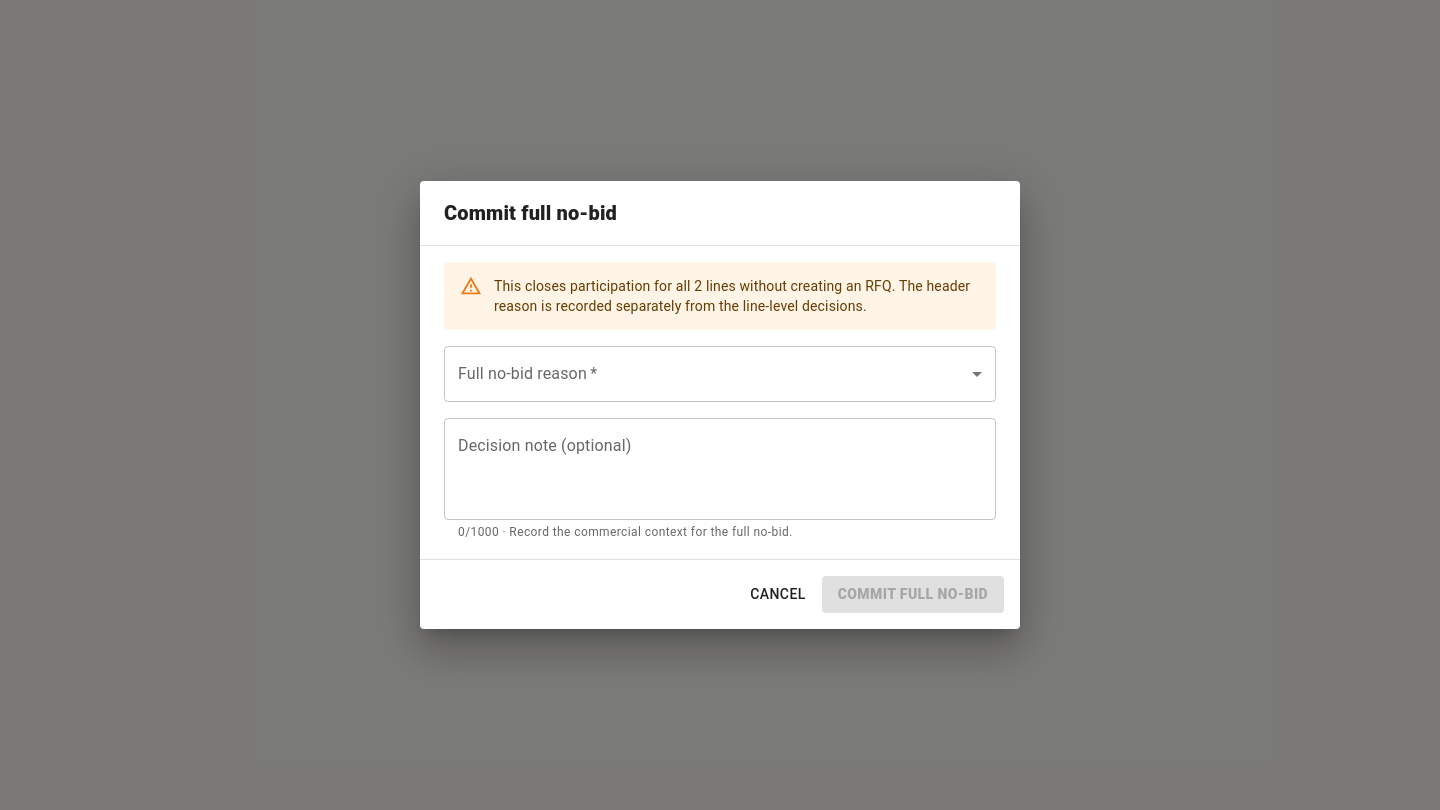
Test: FullNoBidCommitDialog › offers only reasons that describe turning the whole request down, never a line-skip-only reason
Press the mouse on the dropdown named "Full no-bid reason" at (720, 374), box [444,346,996,402]
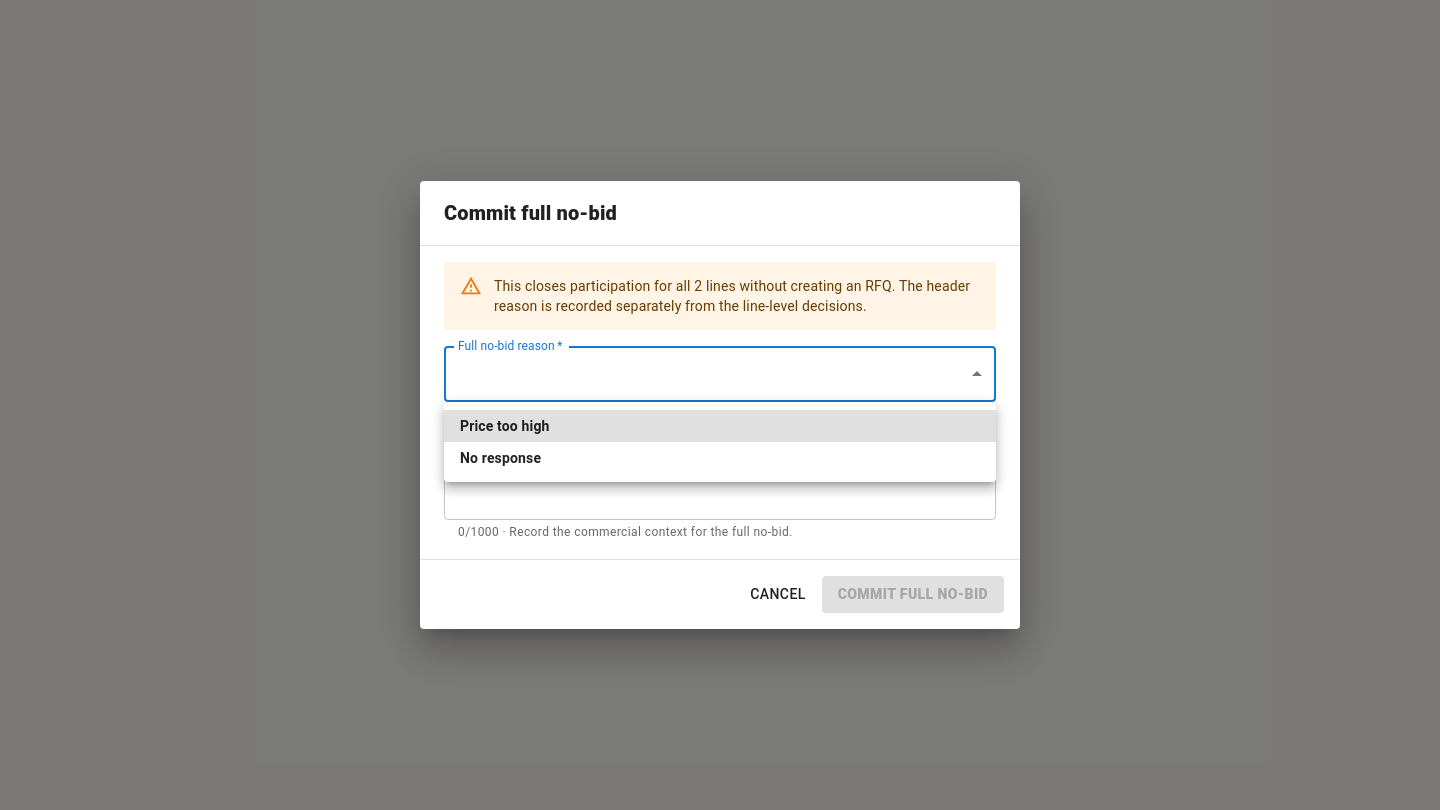
Result: the text "Price too high" is shown at [460,416,550,436]
Result: the text "No response" is shown at [460,448,541,468]
